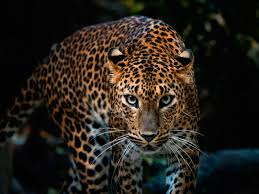leopard: (7, 13, 204, 194)
